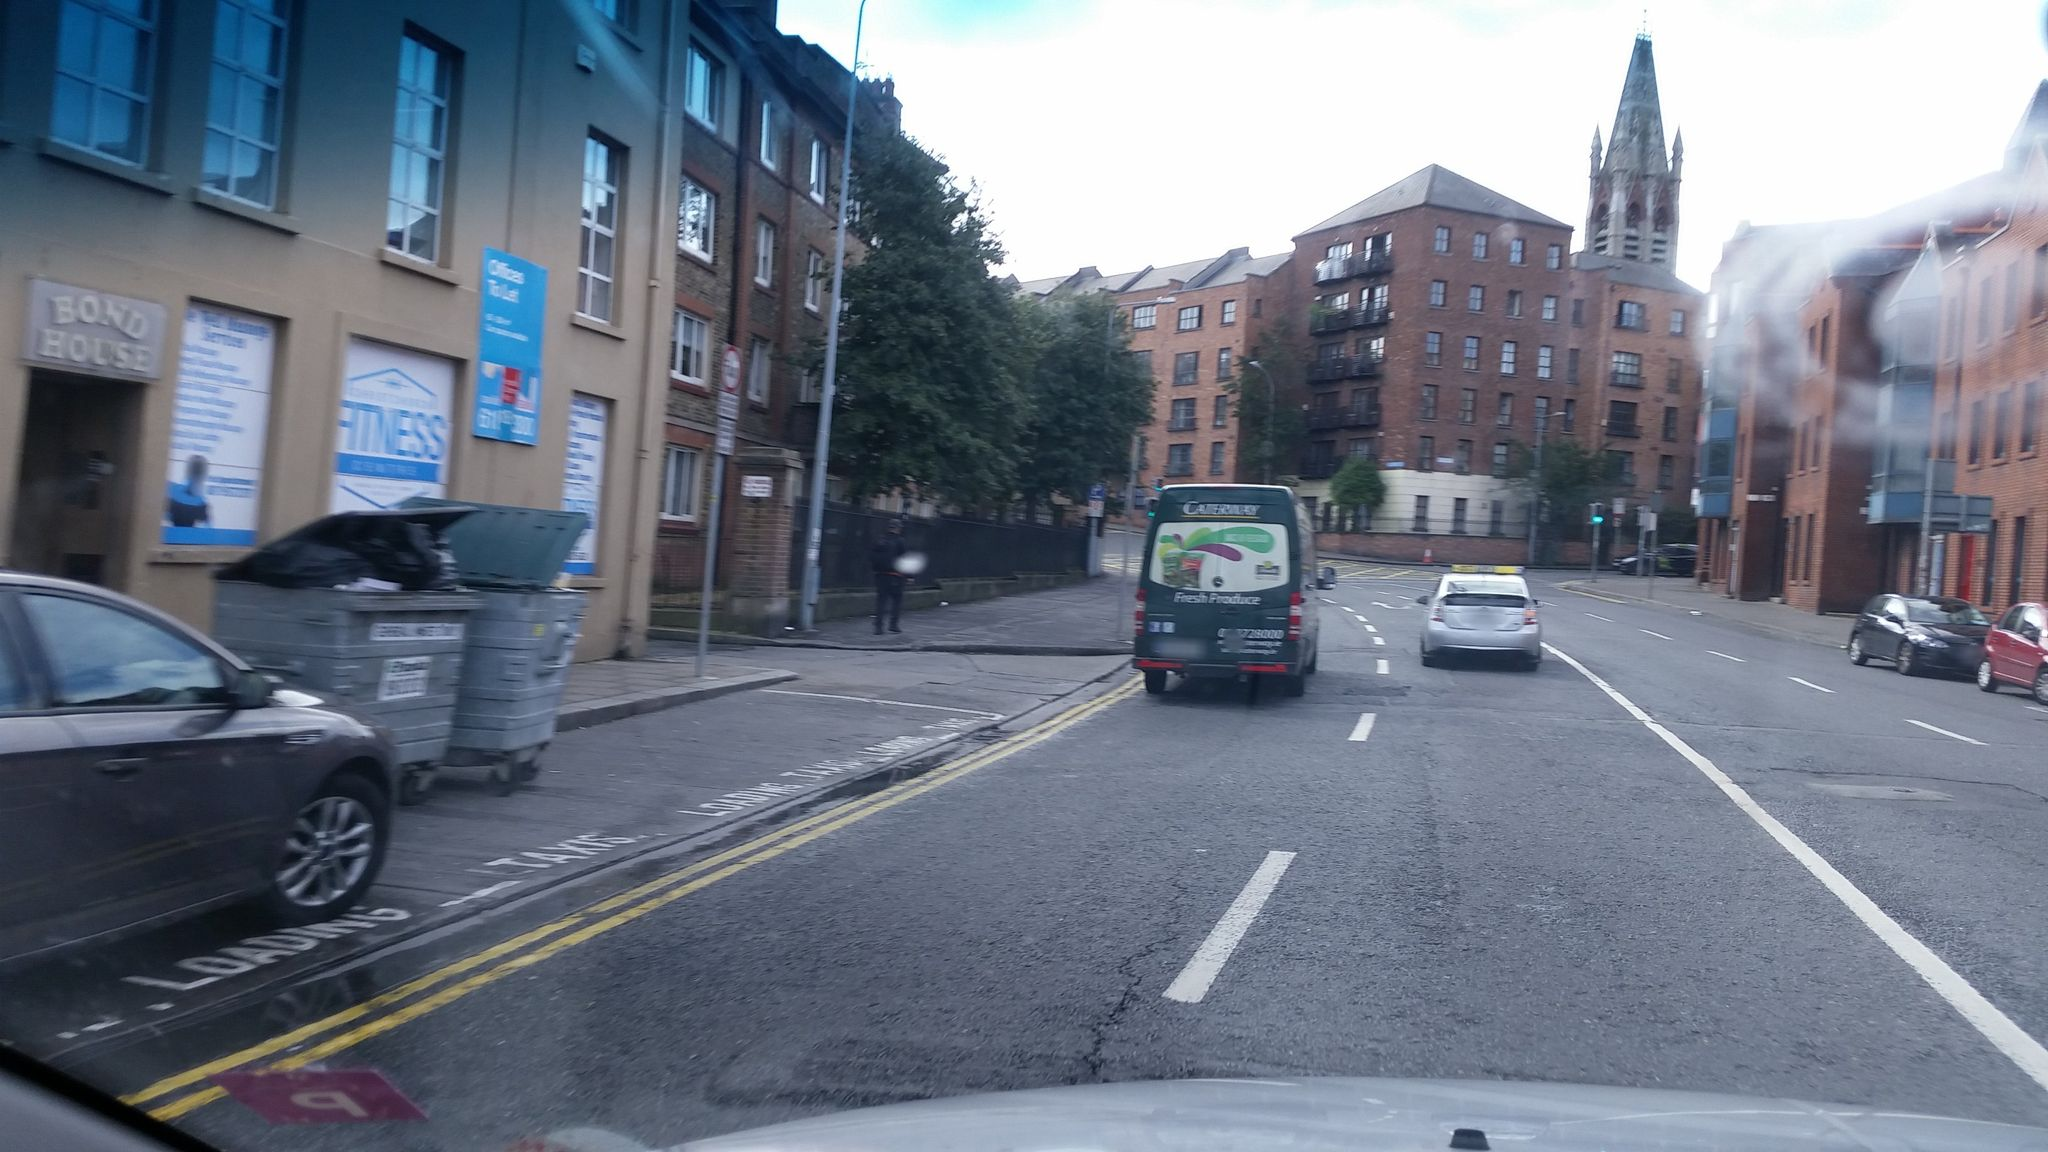property sign: (471, 235, 563, 456)
